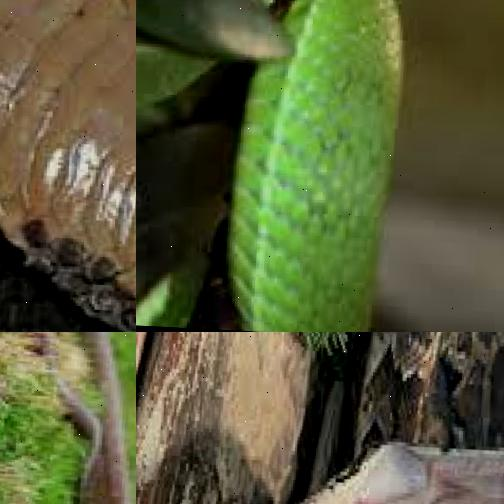snake: (136, 0, 436, 332), (0, 0, 136, 332), (266, 332, 504, 504), (0, 332, 136, 504)
